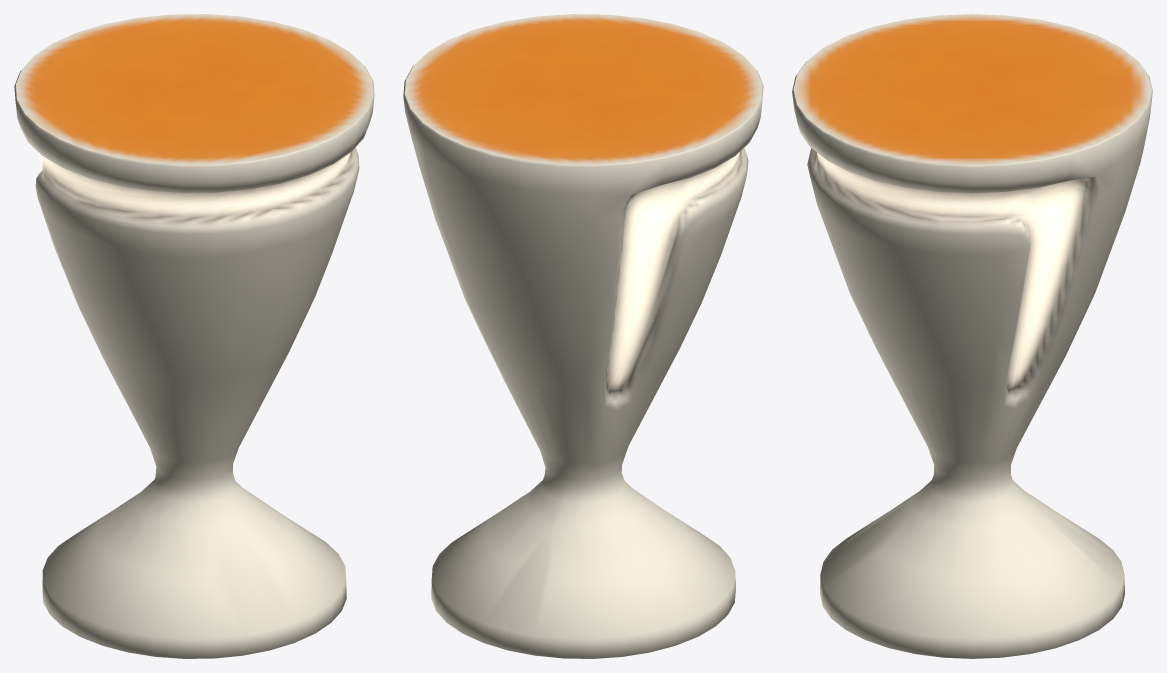
File: bar_table_4_c.glb
The picture shows the model from 3 angles, left to right: view 1: azimuth 30°, elevation 25°; view 2: azimuth 150°, elevation 25°; view 3: azimuth 270°, elevation 25°; orthographic projection.
Visible parts, largest first — view 1: bar_table_4; view 2: bar_table_4; view 3: bar_table_4.
Part boxes in pixels (bbox=[...]): bar_table_4: bbox=[14, 14, 374, 658]; bar_table_4: bbox=[403, 14, 763, 658]; bar_table_4: bbox=[792, 14, 1152, 658].
Bounding box in the file's own units: 0.7105 × 1.1 × 0.7105.
1 material, 1 textured.
